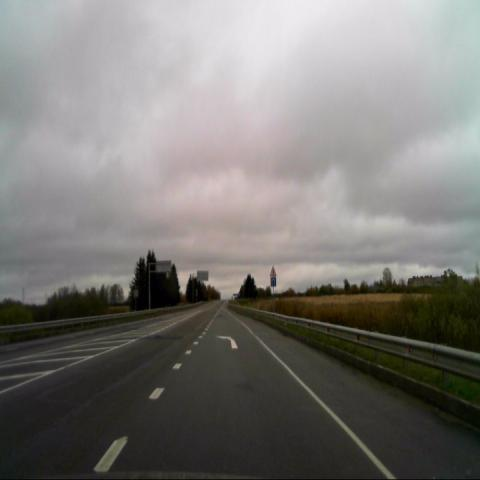2_3_2: (269, 265, 277, 277)
5_15_5: (270, 277, 276, 287)
